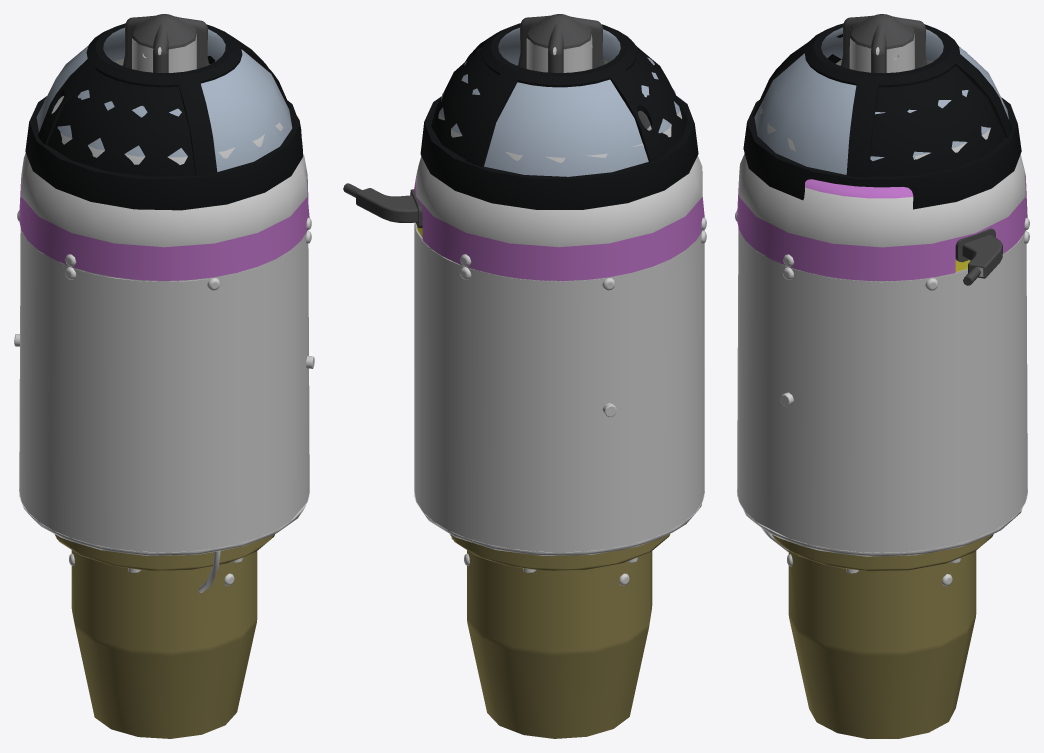
Rendered from sim_sea_2-5_r_p220_prt.obj.
3 views of the same model, side by side, from view 1: azimuth 30°, elevation 25°; view 2: azimuth 150°, elevation 25°; view 3: azimuth 270°, elevation 25° (orthographic).
Visible parts, largest first — view 1: sim_sea_2-5_r_p220_prt; view 2: sim_sea_2-5_r_p220_prt; view 3: sim_sea_2-5_r_p220_prt.
Boxes of the visible parts, x1=… form: sim_sea_2-5_r_p220_prt: x1=14, y1=14, x2=314, y2=738; sim_sea_2-5_r_p220_prt: x1=343, y1=14, x2=706, y2=738; sim_sea_2-5_r_p220_prt: x1=735, y1=14, x2=1029, y2=738.
Size of the model in its own units: 138 by 307 by 119.
